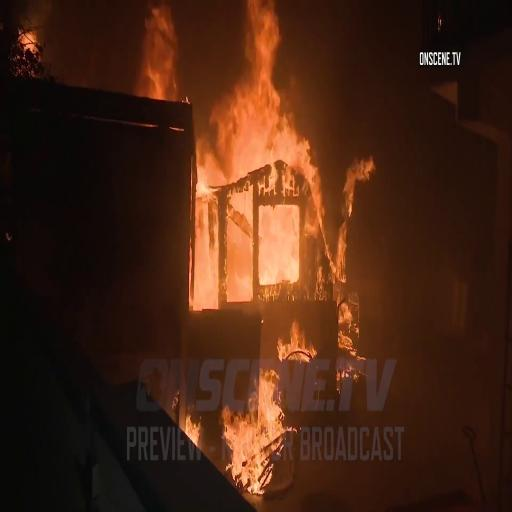fire: (191, 2, 300, 304), (223, 352, 282, 490), (136, 6, 181, 108)
